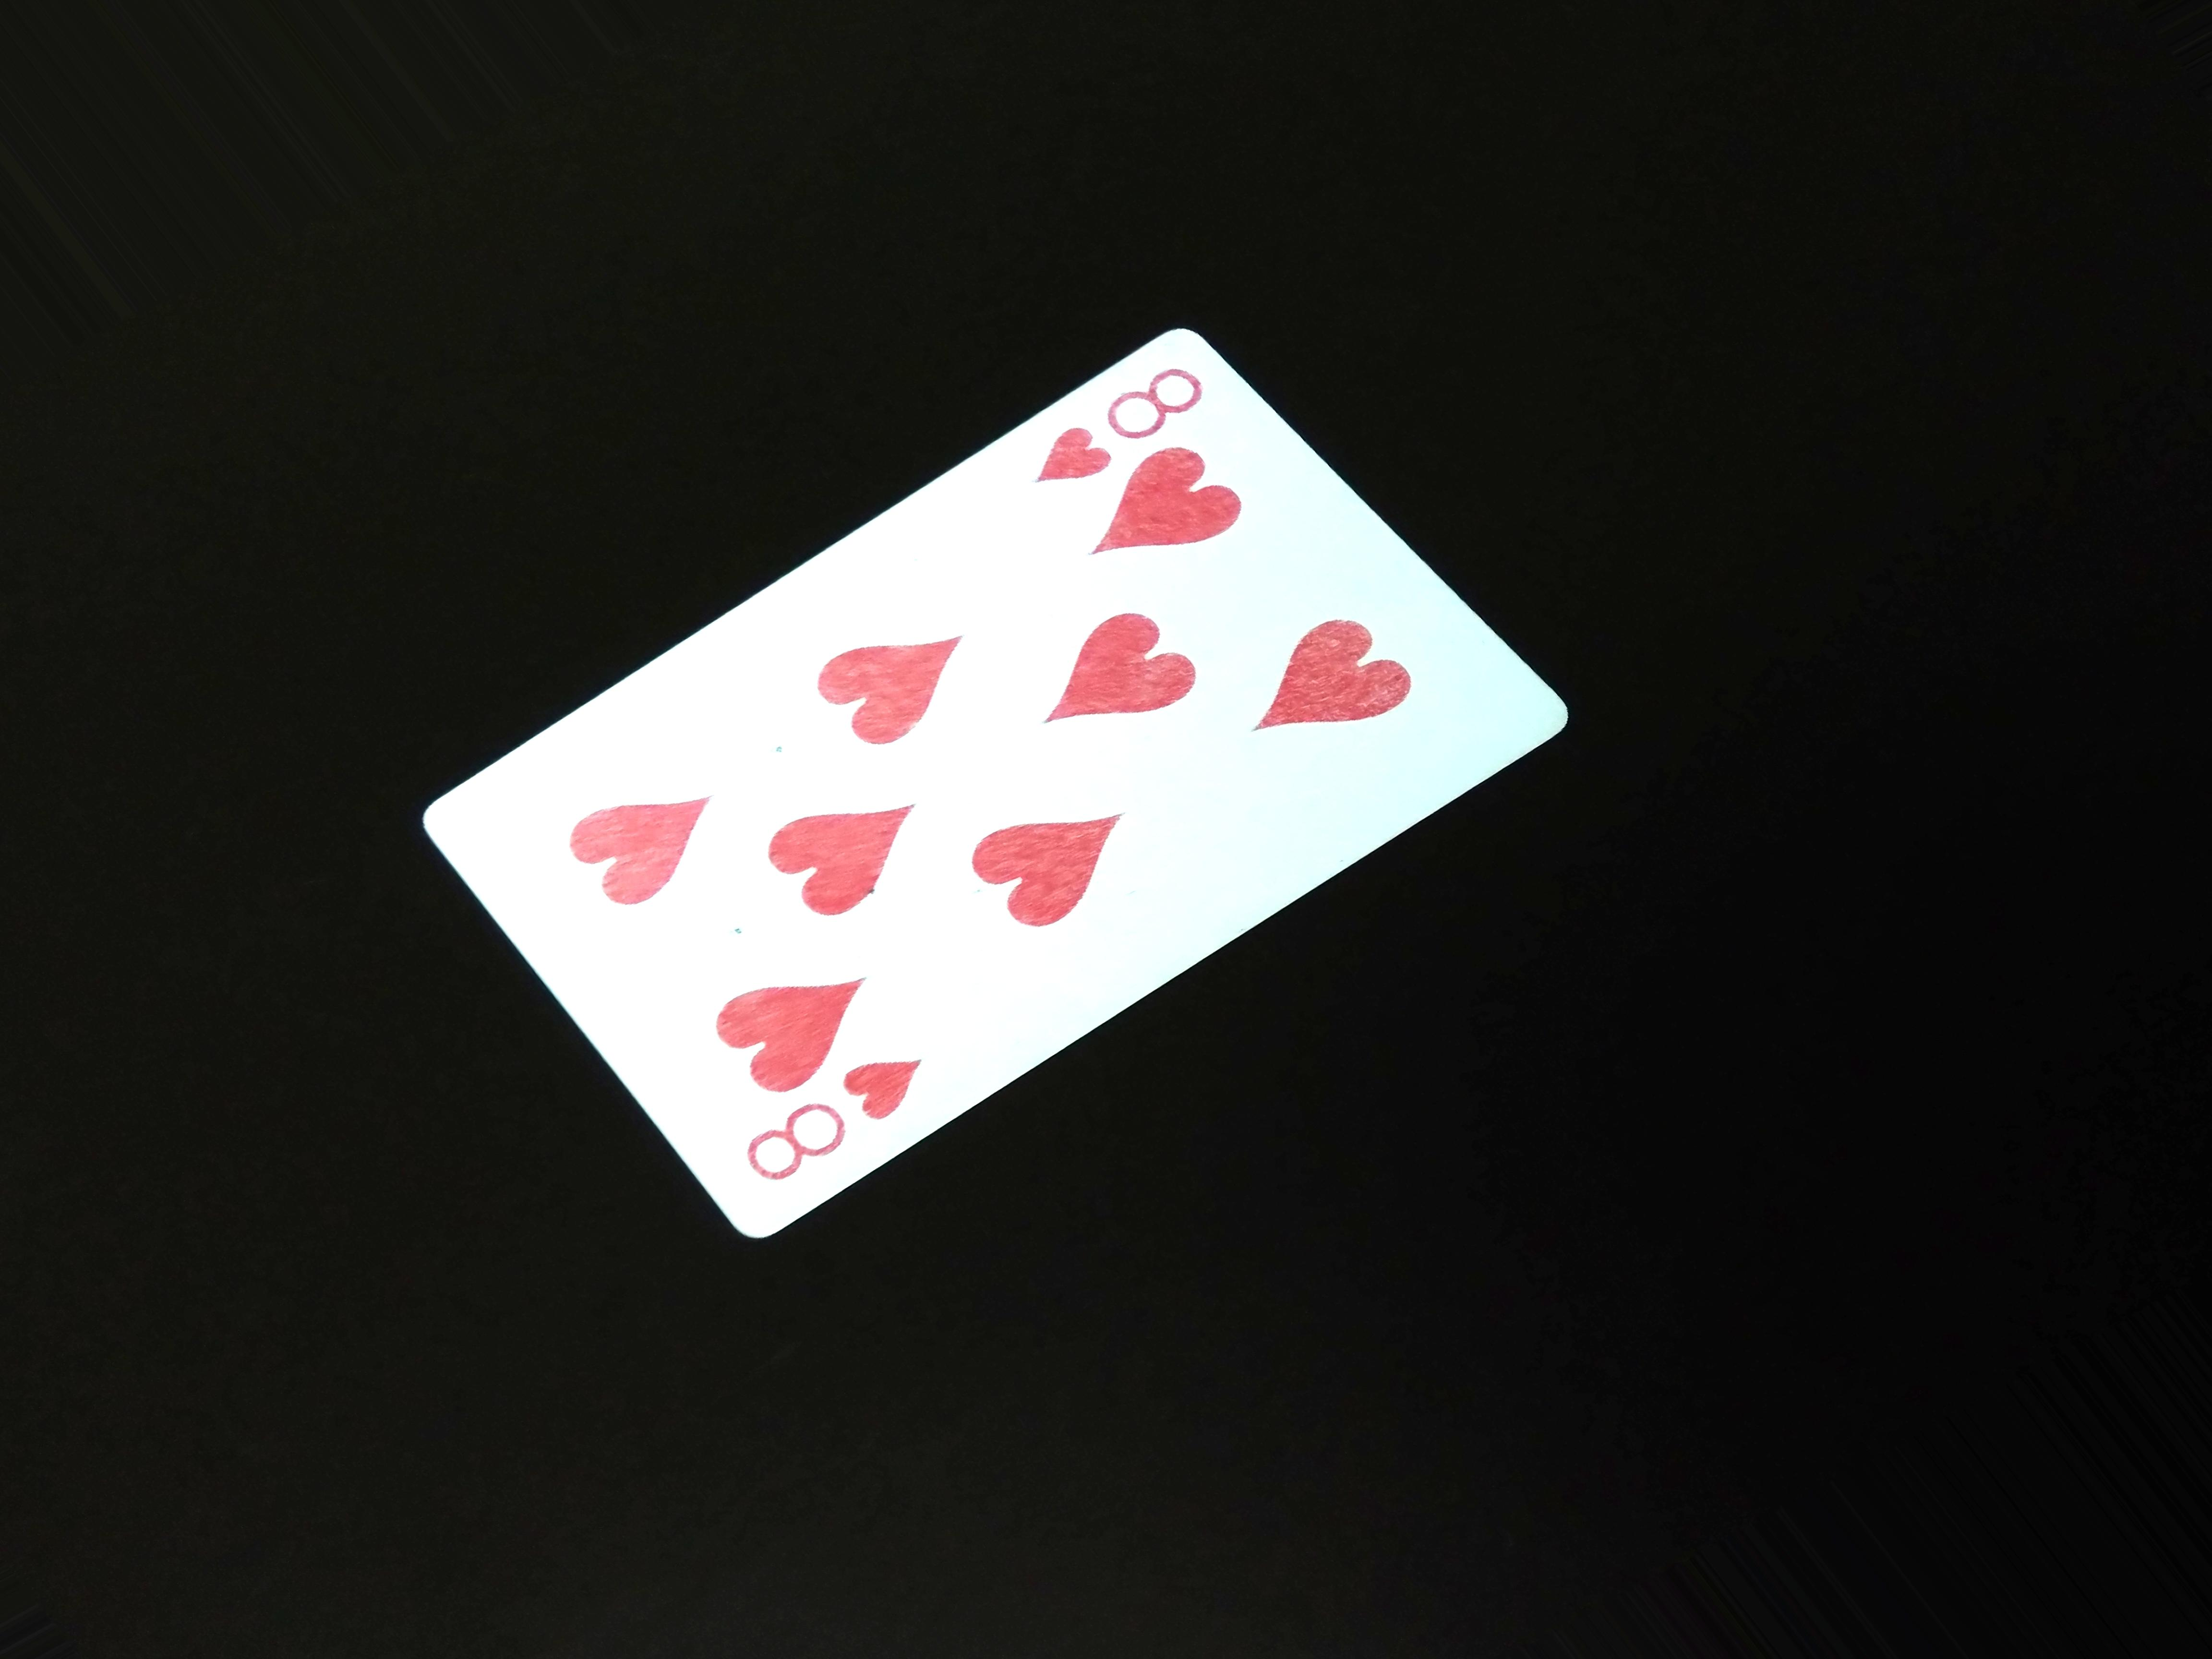8H: (1047, 338, 1198, 500)
